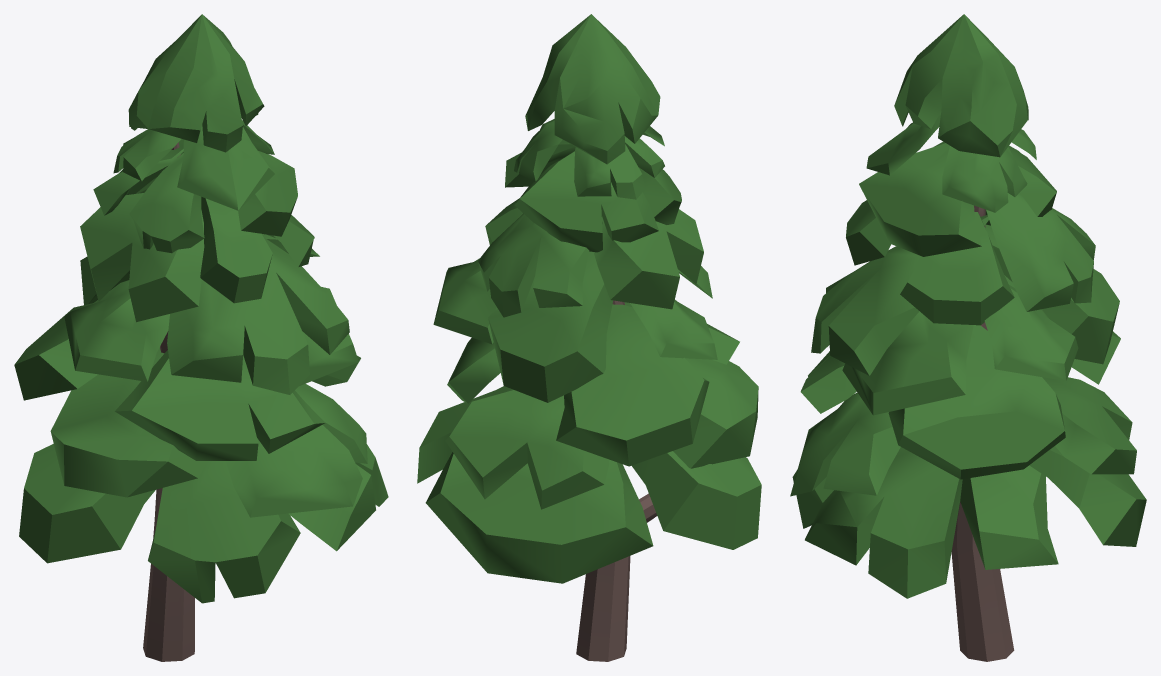
Rendered from ever1.fbx.
3 views of the same model, side by side, from view 1: azimuth 30°, elevation 25°; view 2: azimuth 150°, elevation 25°; view 3: azimuth 270°, elevation 25° (orthographic). The views are drawn at different scales.
Visible parts, largest first — view 1: Canopy.001, Trunk.002; view 2: Canopy.001, Trunk.002; view 3: Canopy.001, Trunk.002.
Part boxes in pixels (x1,y1,x2,y2): Canopy.001: [14, 14, 388, 603]; Trunk.002: [143, 142, 194, 661]; Canopy.001: [417, 14, 761, 583]; Trunk.002: [576, 300, 657, 661]; Canopy.001: [790, 14, 1146, 598]; Trunk.002: [951, 205, 1014, 661].
Size of the model in its own units: 1.26 by 2.4 by 1.2.
